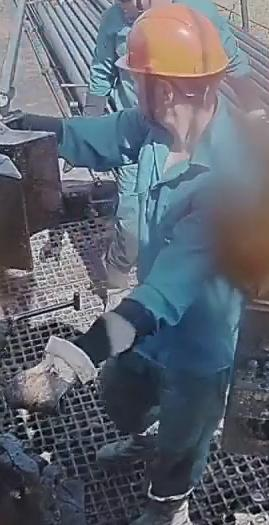gloves: (3, 335, 96, 415)
helmet: (113, 2, 230, 78)
vest: (132, 103, 242, 375), (104, 10, 242, 103)
